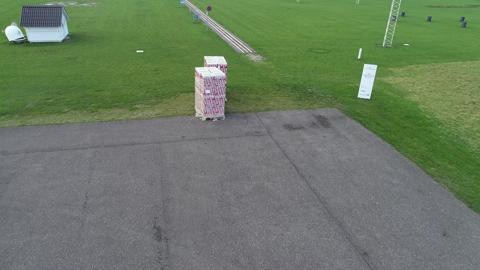RockwoolPallet: (204, 55, 230, 81)
